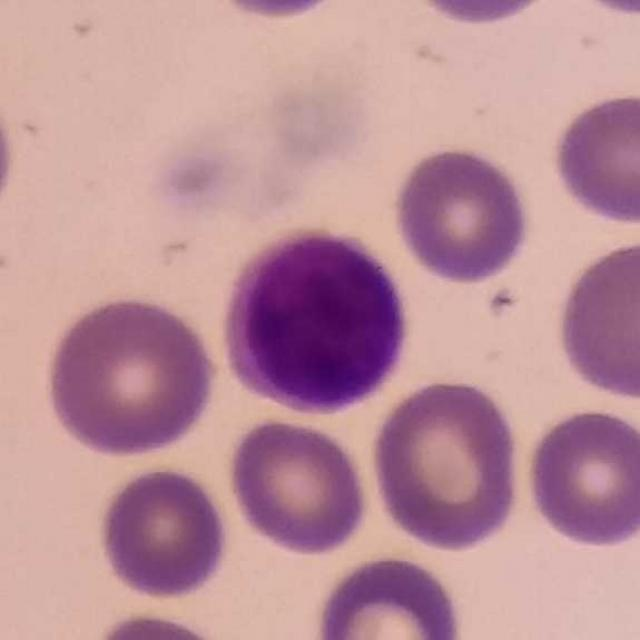Lymphocyte: (216, 219, 415, 420)
Platelets: (194, 0, 363, 26)
RBC: (41, 290, 222, 461), (366, 374, 527, 553), (225, 414, 373, 559), (391, 143, 534, 286), (94, 462, 232, 602), (521, 403, 640, 551), (552, 235, 640, 404), (310, 550, 468, 640), (547, 89, 640, 228), (402, 0, 566, 29), (86, 609, 239, 640), (201, 0, 356, 24), (565, 0, 640, 20)
